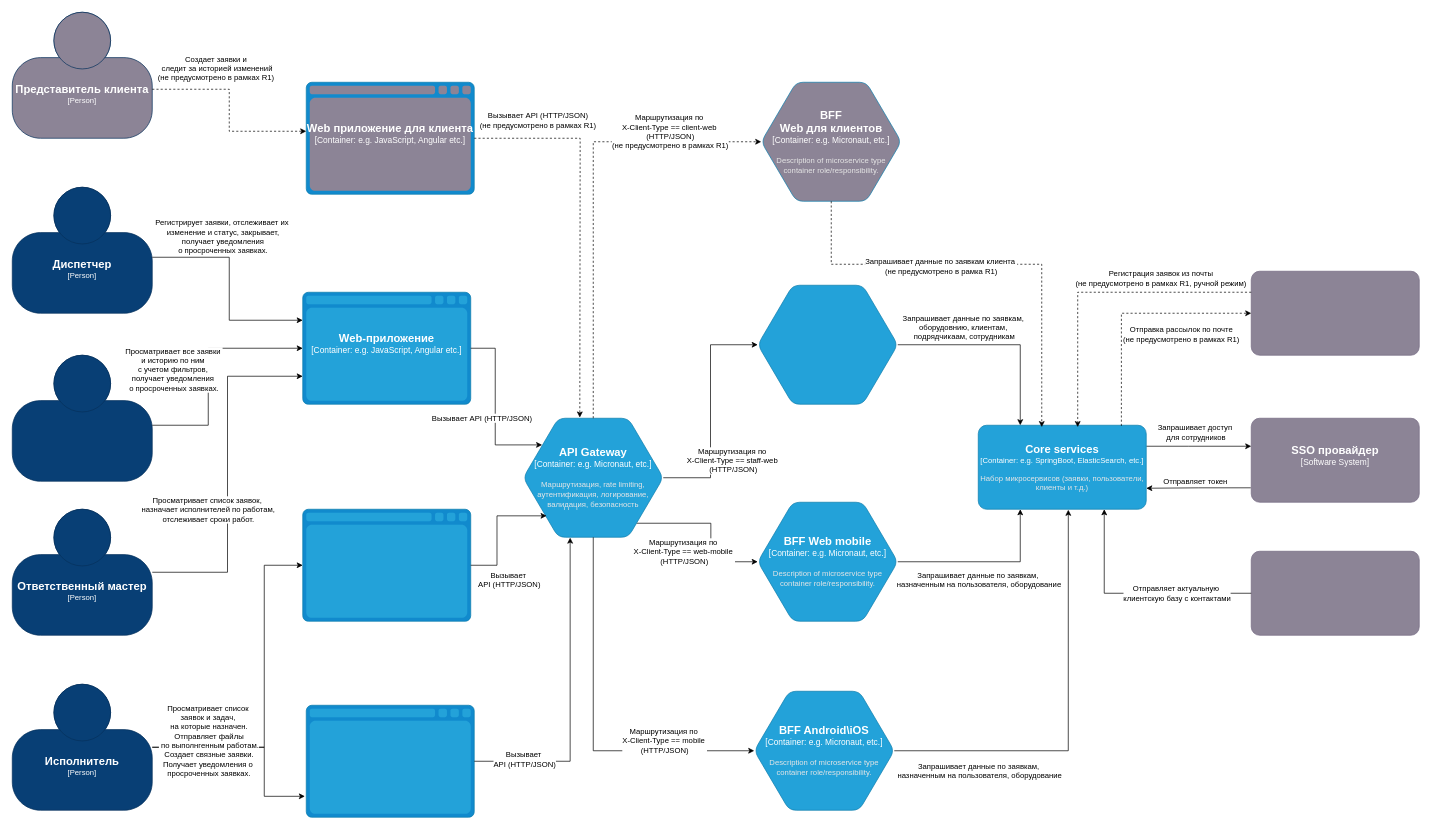
This 1432x830 diagram has some shape labels left out. The box of each missing label's shape, as (x1, y1, x2, y2) in pixels:
Android\iOS приложение [Container: e.g. JavaScript, Angular etc.]: (306, 705, 474, 817)
BFF Web [Container: e.g. Micronaut, etc.]: (757, 285, 898, 404)
CRM система [Software System]: (1251, 551, 1419, 635)
Email-провайдер [Software System]: (1251, 271, 1419, 355)
Web мобильная версия [Container: e.g. JavaScript, Angular etc.]: (302, 509, 471, 621)
Руководитель сервисного направления [Person]: (12, 355, 152, 481)
